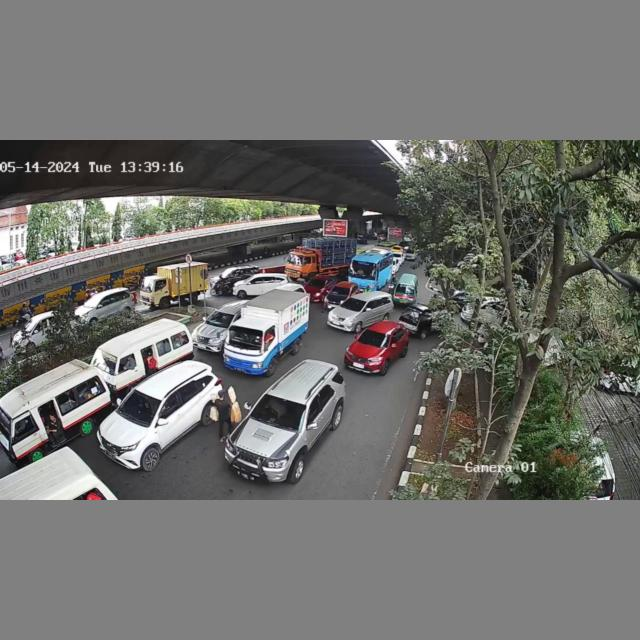windshield: (118, 391, 164, 426), (247, 395, 306, 422), (225, 327, 276, 347), (357, 329, 394, 351), (89, 349, 120, 375), (206, 312, 235, 326), (341, 298, 365, 309), (402, 309, 422, 321), (396, 282, 415, 294), (331, 286, 350, 296), (307, 279, 325, 287)
